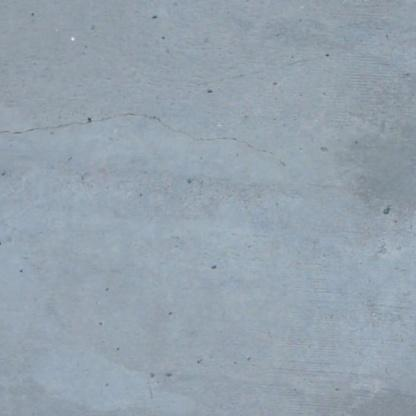Cracks: (0, 108, 357, 205)
